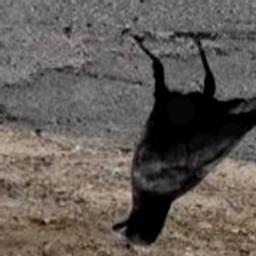Crow: (112, 29, 256, 248)
